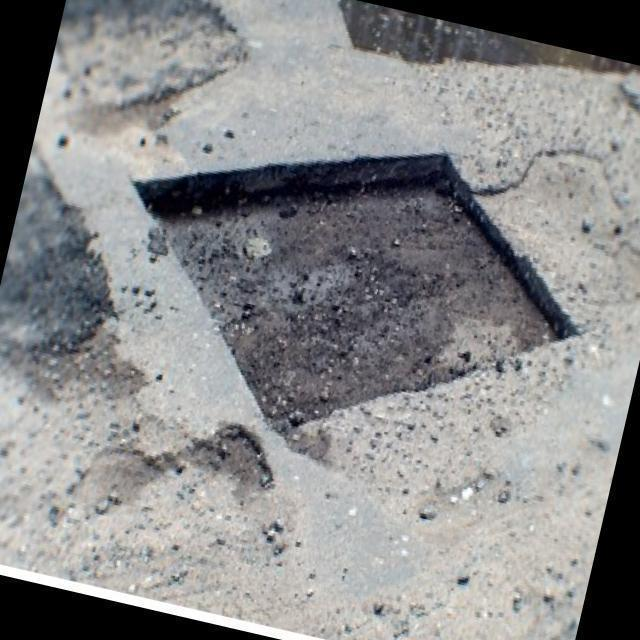pothole: (85, 86, 610, 496), (297, 0, 640, 134)
